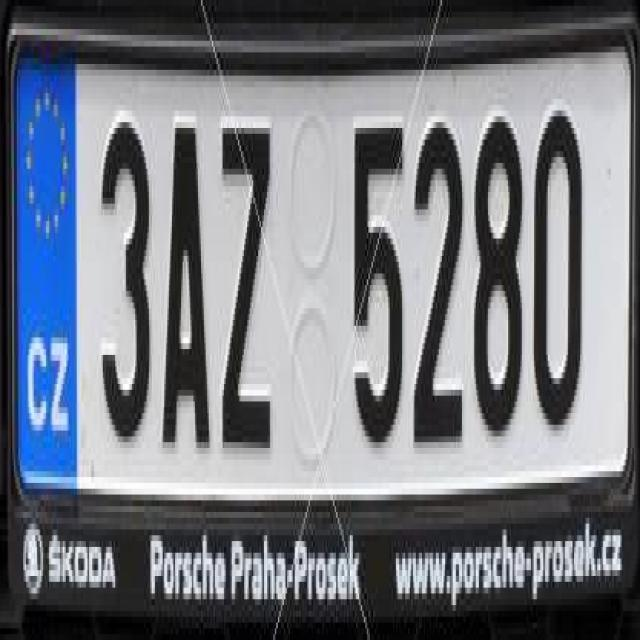0: (530, 94, 582, 444)
3: (94, 66, 155, 472)
5: (347, 90, 410, 444)
8: (473, 88, 526, 440)
A: (158, 95, 217, 464)
Z: (216, 105, 281, 462)
